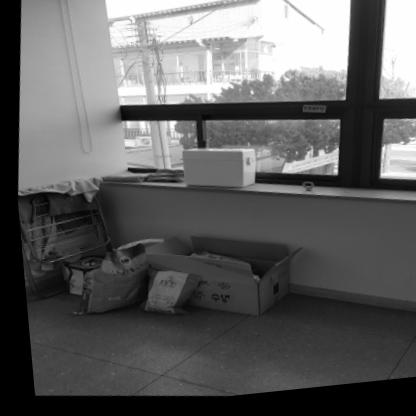DDL: (173, 144, 255, 199)
